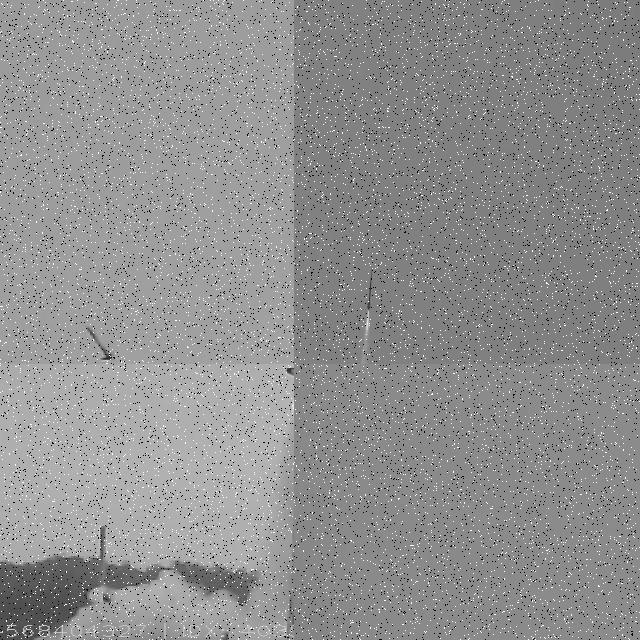Rocket: (86, 326, 115, 362), (367, 266, 372, 312)
